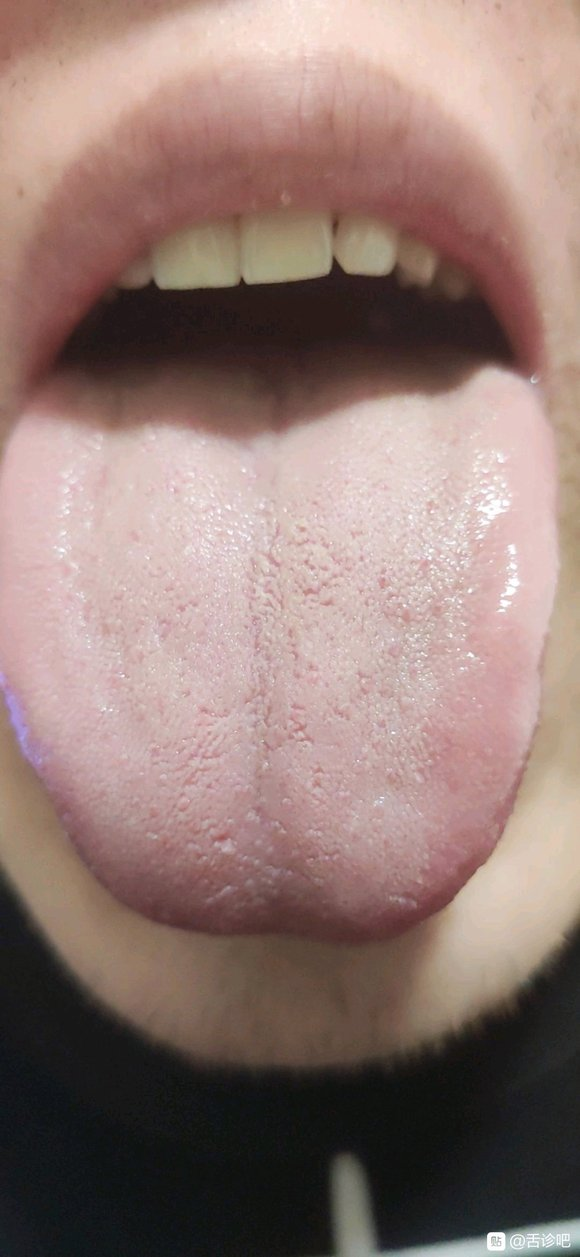baitaishe: (1, 329, 560, 944)
pangdashe: (1, 327, 560, 942)
